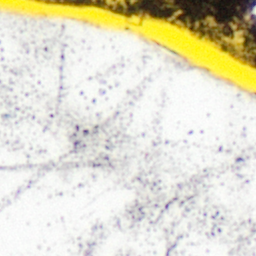cement_matrix: (115, 0, 255, 64), (59, 0, 104, 3)
cracks: (0, 0, 255, 93)
gravel_crushed_stones: (0, 9, 255, 255), (249, 2, 255, 19)
